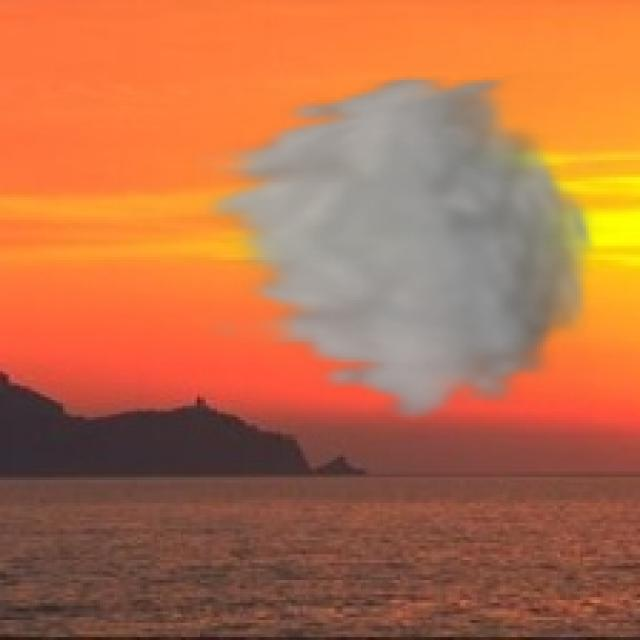smoke: (191, 71, 603, 426)
